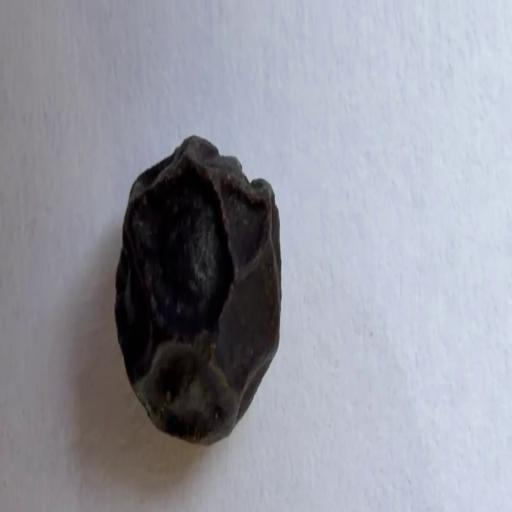Black_pepper: (104, 122, 291, 458)
